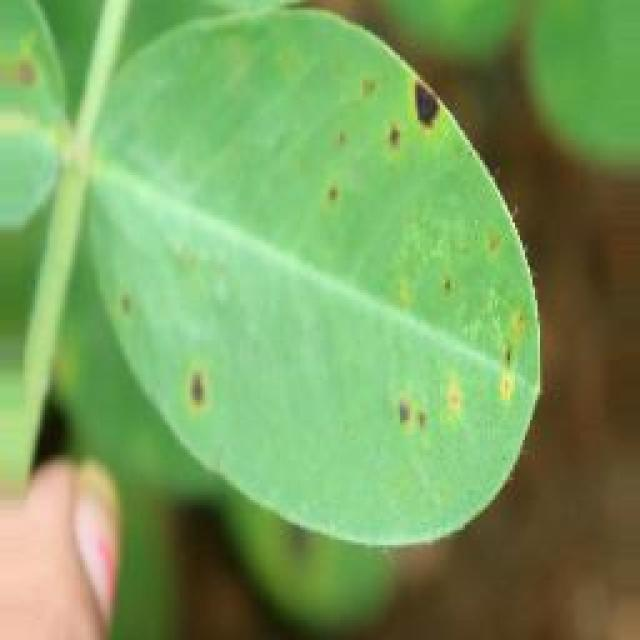Sigatoka: (356, 62, 449, 187), (476, 304, 528, 427), (155, 356, 231, 435), (423, 342, 479, 441), (372, 380, 442, 451), (0, 18, 64, 95), (458, 204, 518, 286), (319, 166, 365, 233)
